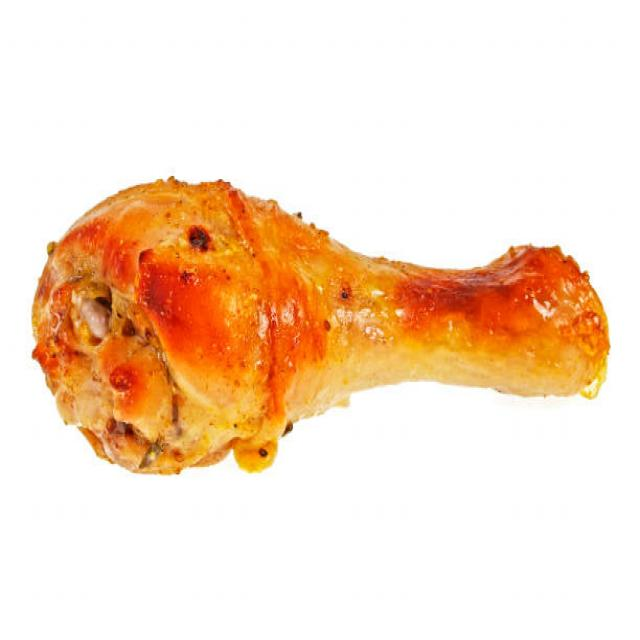Chicken: (26, 164, 615, 519)
